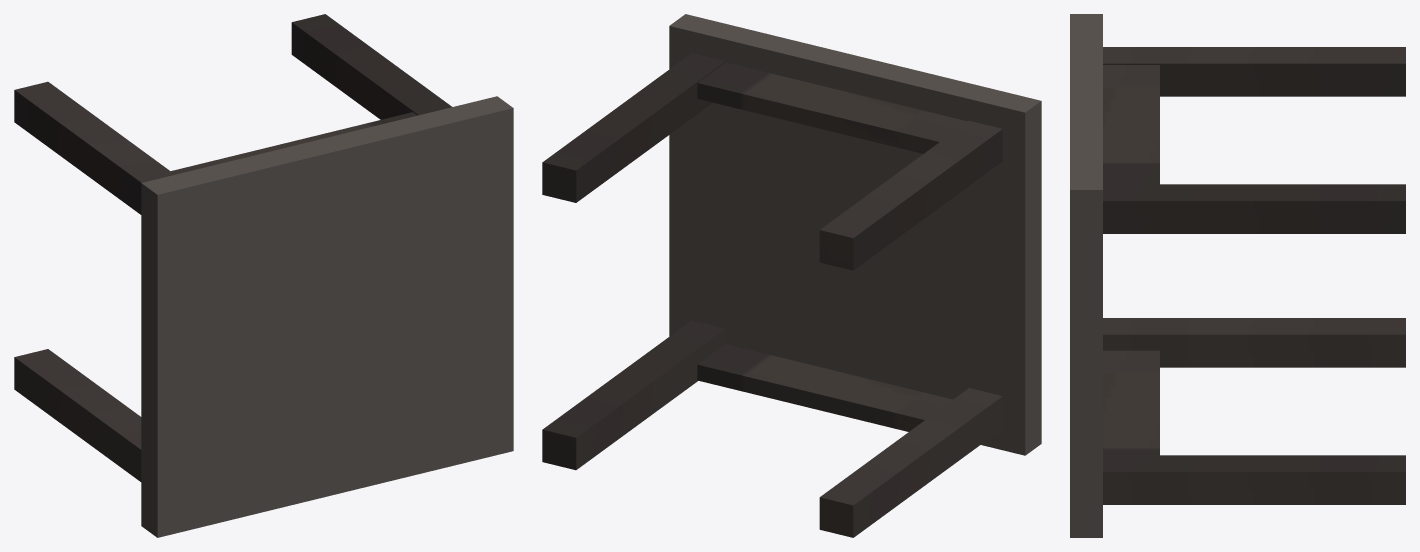
Rendered from pz_table_tables_high_01_fancy_dark_table.obj.
The picture shows the model from 3 angles, left to right: view 1: azimuth 30°, elevation 25°; view 2: azimuth 150°, elevation 25°; view 3: azimuth 270°, elevation 25°; orthographic projection.
Size of the model in its own units: 0.95 by 0.875 by 0.7655.
Materials: 1 (1 with a texture image).
